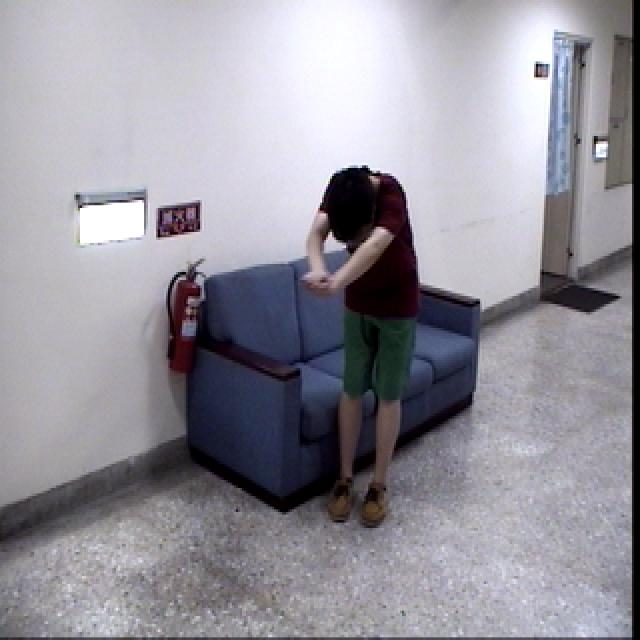bend: (293, 140, 428, 538)
